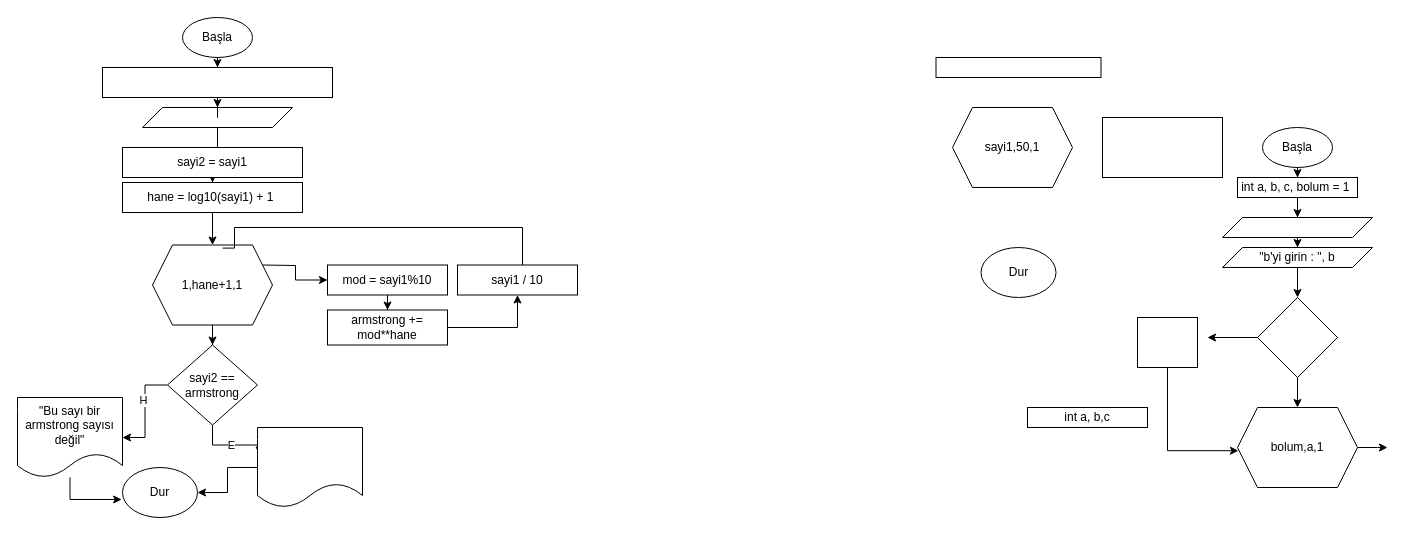
This 1413x535 diagram has some shape labels left out. The centre of each missing label's shape, as x and y in pixels:
"a'yı girin : ", a: pixel 1297 227
"Bu sayı bir armstrong sayısı ": pixel 309 467
"Sayı girin : ", sayi1: pixel 217 117
a > b: pixel 1297 337
c = a, a = b b= c,: pixel 1167 342
int sayi1 = 1, toplam = 0: pixel 1018 67
int sayi1, sayi2, hane, mod , armstrong: pixel 217 82
toplam += sayi1: pixel 1162 147
